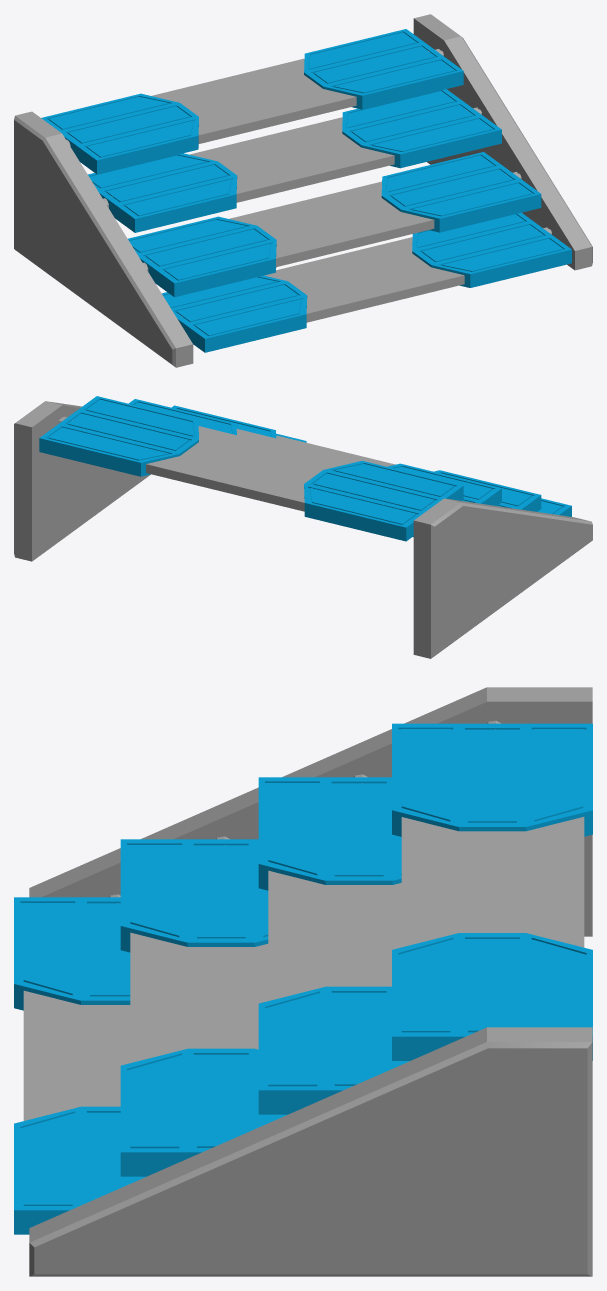
Rendered from Steps.fbx.
The picture shows the model from 3 angles, top to bottom: view 1: azimuth 30°, elevation 25°; view 2: azimuth 150°, elevation 25°; view 3: azimuth 270°, elevation 25°; orthographic projection. The views are drawn at different scales.
Parts seen in each view (by area): view 1: Steps; view 2: Steps; view 3: Steps.
Part boxes in pixels (left/top/right/bottom): Steps: left=14, top=14, right=592, bottom=367; Steps: left=14, top=396, right=592, bottom=658; Steps: left=14, top=687, right=592, bottom=1276.
Size of the model in its own units: 5.42 by 1.65 by 3.69.
